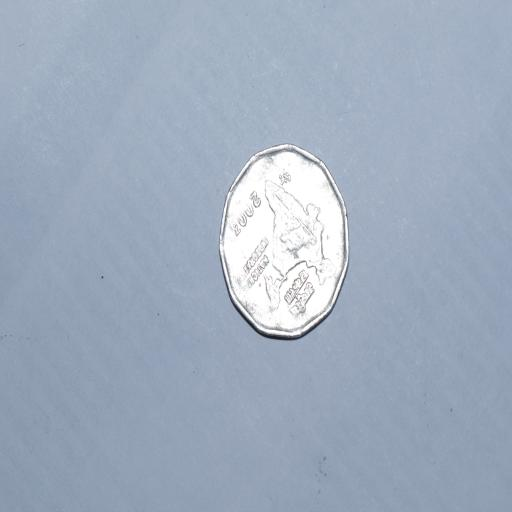rupee2: (212, 141, 351, 343)
